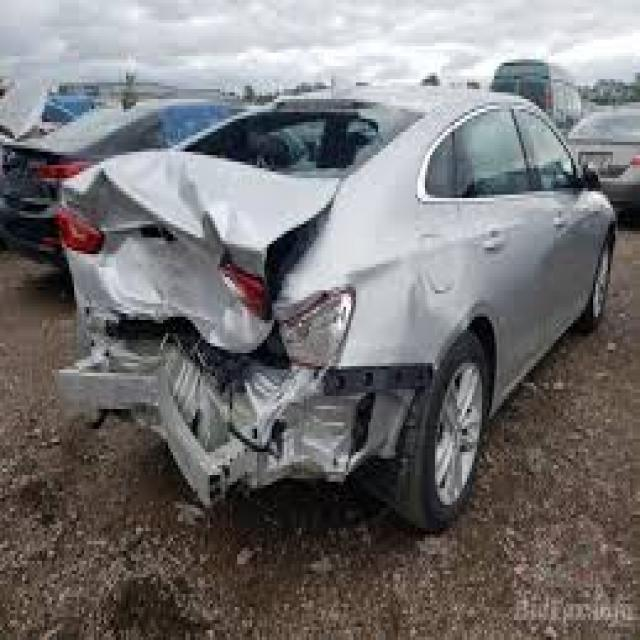damaged-trunk: (70, 146, 324, 359)
